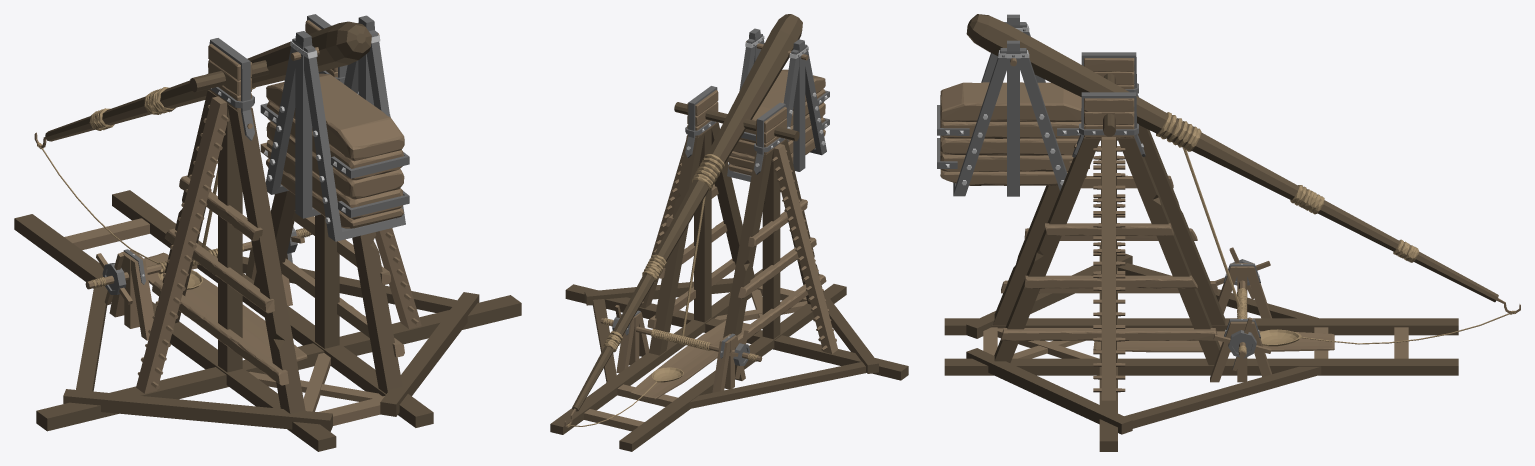
Rendered from siege_trebuchet.FBX.
The picture shows the model from 3 angles, left to right: view 1: azimuth 30°, elevation 25°; view 2: azimuth 150°, elevation 25°; view 3: azimuth 270°, elevation 25°; orthographic projection. The views are drawn at different scales.
Parts seen in each view (by area): view 1: siege_trebuchet; view 2: siege_trebuchet; view 3: siege_trebuchet.
Part boxes in pixels (box(x1,y1,x2,y2)): siege_trebuchet: box(14, 14, 521, 451); siege_trebuchet: box(550, 14, 908, 451); siege_trebuchet: box(937, 14, 1520, 451).
Bounding box in the file's own units: 10.55 × 8.52 × 13.29.
